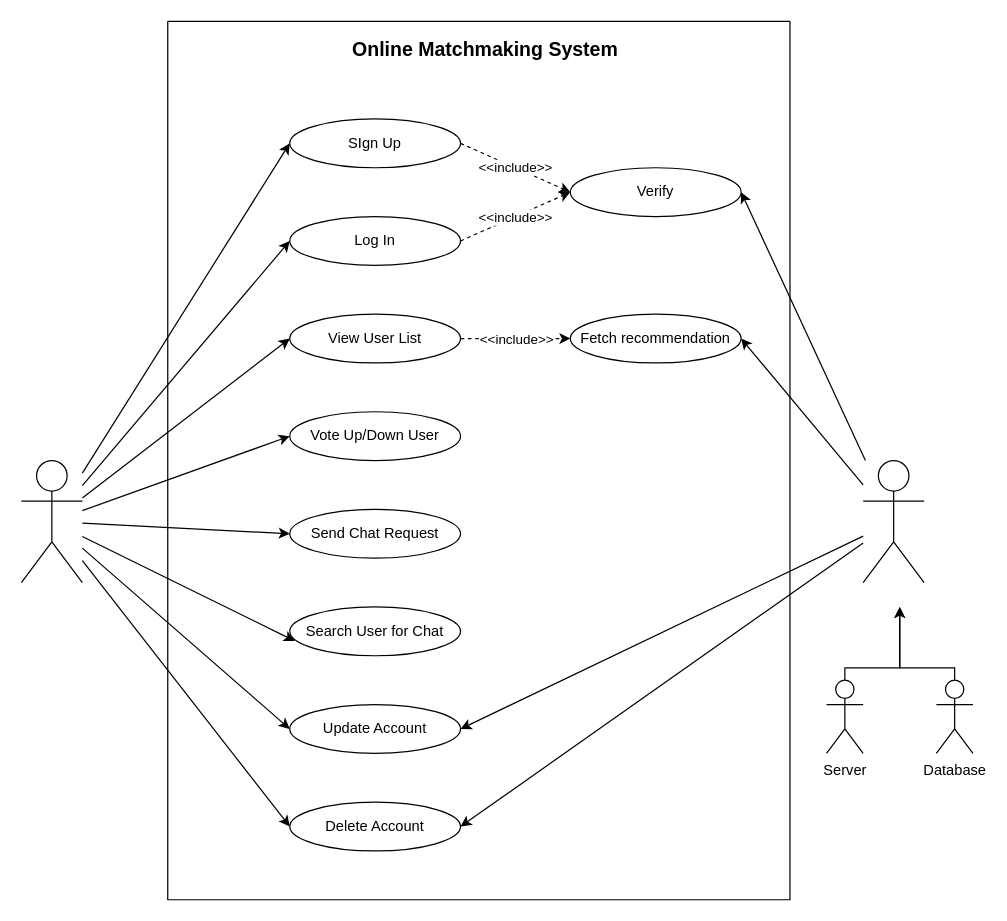
This 1007x921 diagram has some shape labels left out. The shapes that lost their labels are listed below. From the top down, each one's centre as x and y in pixels, then its label:
At point 51,521: "User".
At point 893,521: "Admin".
